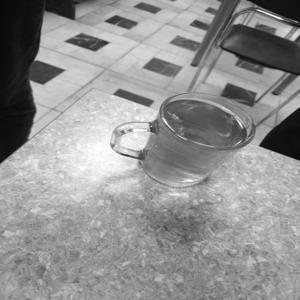tea: (135, 79, 255, 204)
